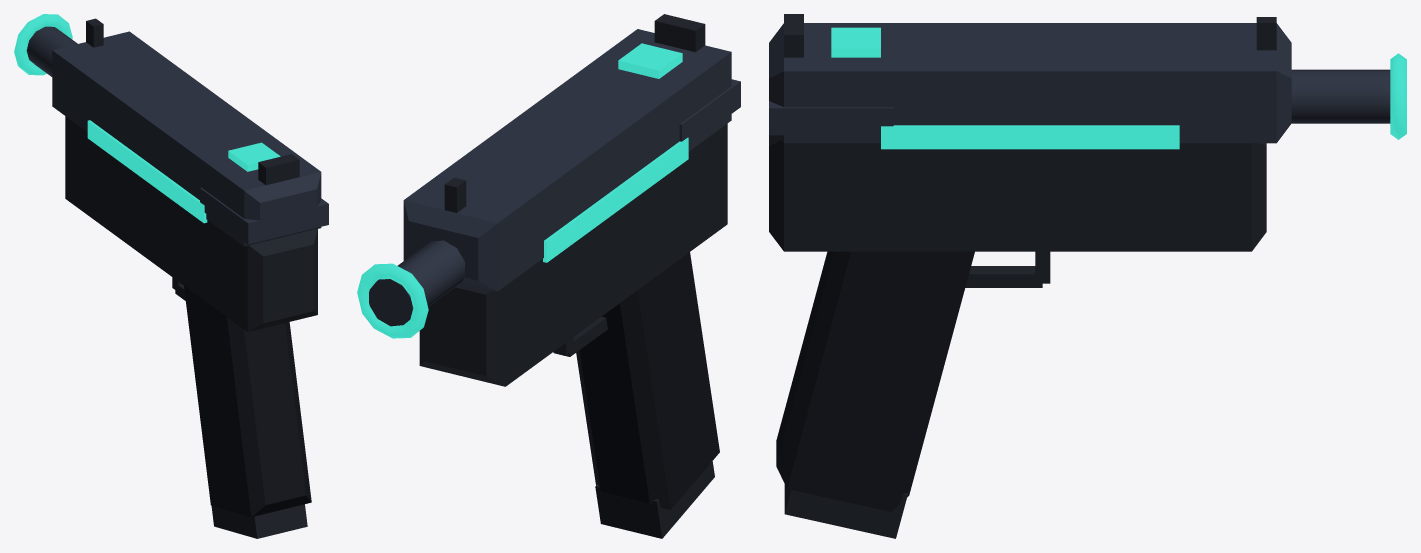
The model's file is weapon_stinger_p.glb.
3 views of the same model, side by side, from view 1: azimuth 30°, elevation 25°; view 2: azimuth 150°, elevation 25°; view 3: azimuth 270°, elevation 25° (orthographic). The views are drawn at different scales.
Visible parts, largest first — view 1: weapon_stinger_p; view 2: weapon_stinger_p; view 3: weapon_stinger_p.
Part boxes in pixels (x1,y1,x2,y2): weapon_stinger_p: (14, 14, 328, 538); weapon_stinger_p: (357, 14, 740, 538); weapon_stinger_p: (769, 14, 1406, 538).
Size of the model in its own units: 0.049 by 0.2232 by 0.2563.
